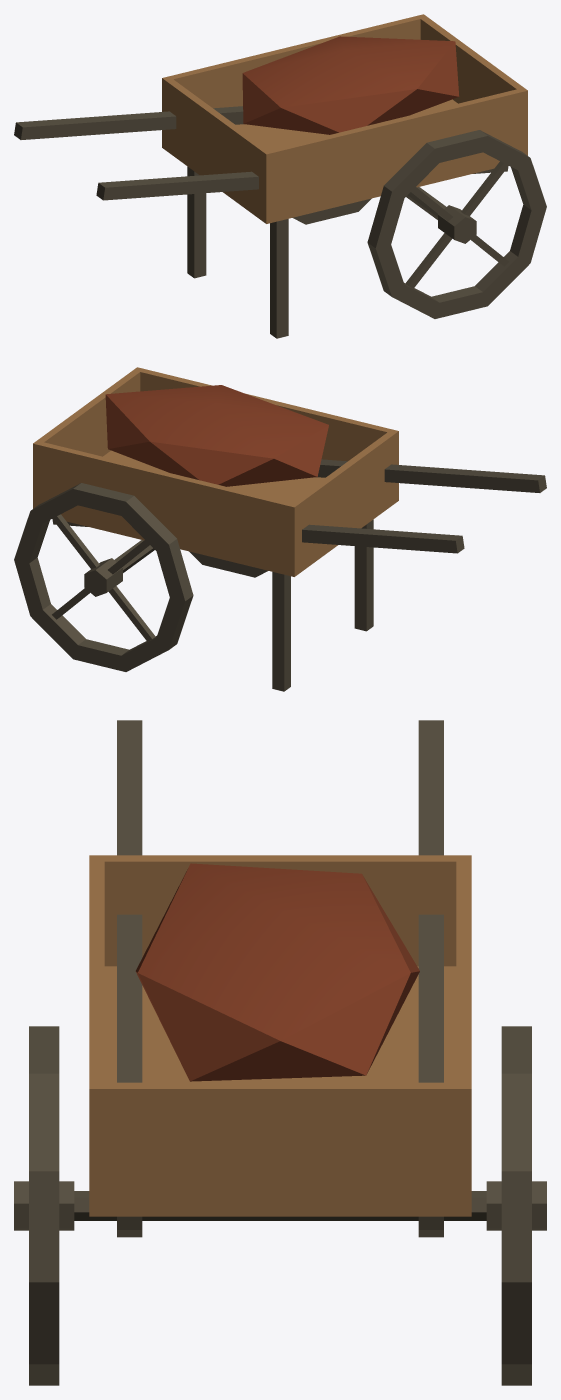
Rendered from Handcart.fbx.
3 renders of one model, top to bottom at view 1: azimuth 30°, elevation 25°; view 2: azimuth 150°, elevation 25°; view 3: azimuth 270°, elevation 25°, orthographic. The views are drawn at different scales.
Visible parts, largest first — view 1: Handcart; view 2: Handcart; view 3: Handcart.
Boxes of the visible parts, x1=… form: Handcart: x1=14, y1=14, x2=546, y2=338; Handcart: x1=14, y1=367, x2=546, y2=691; Handcart: x1=14, y1=720, x2=546, y2=1385.
Size of the model in its own units: 1.76 by 0.9173 by 1.06.
